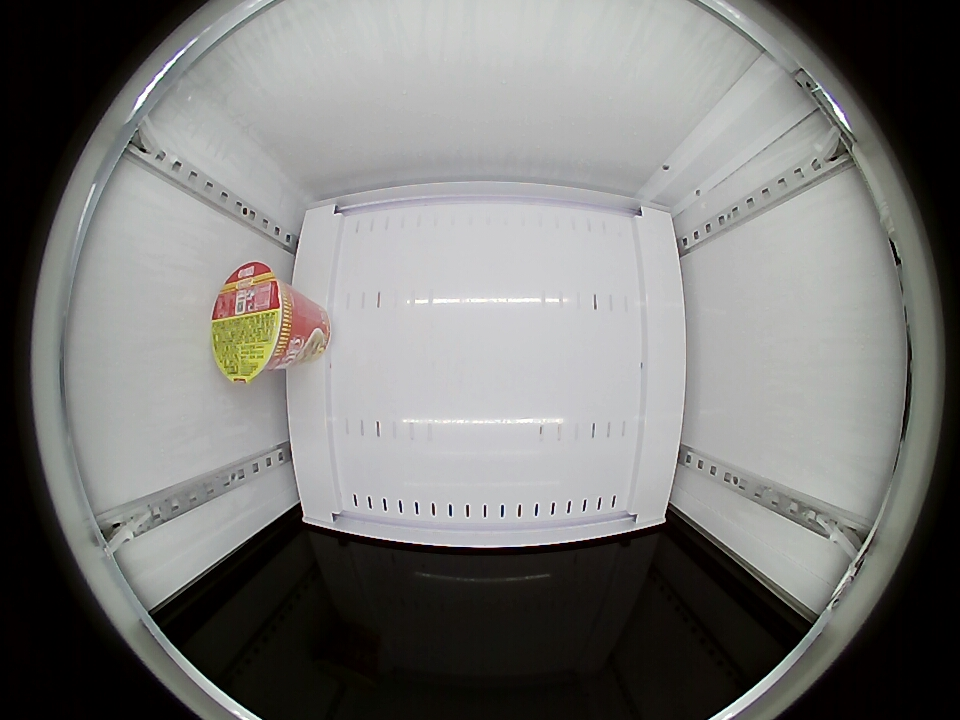heweidao3: (211, 262, 297, 384)
